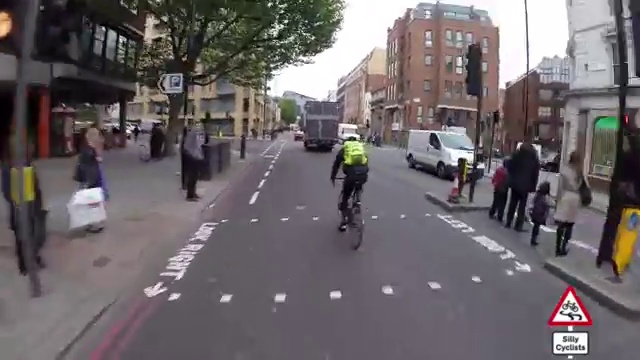cyclist_back: (331, 132, 369, 258)
